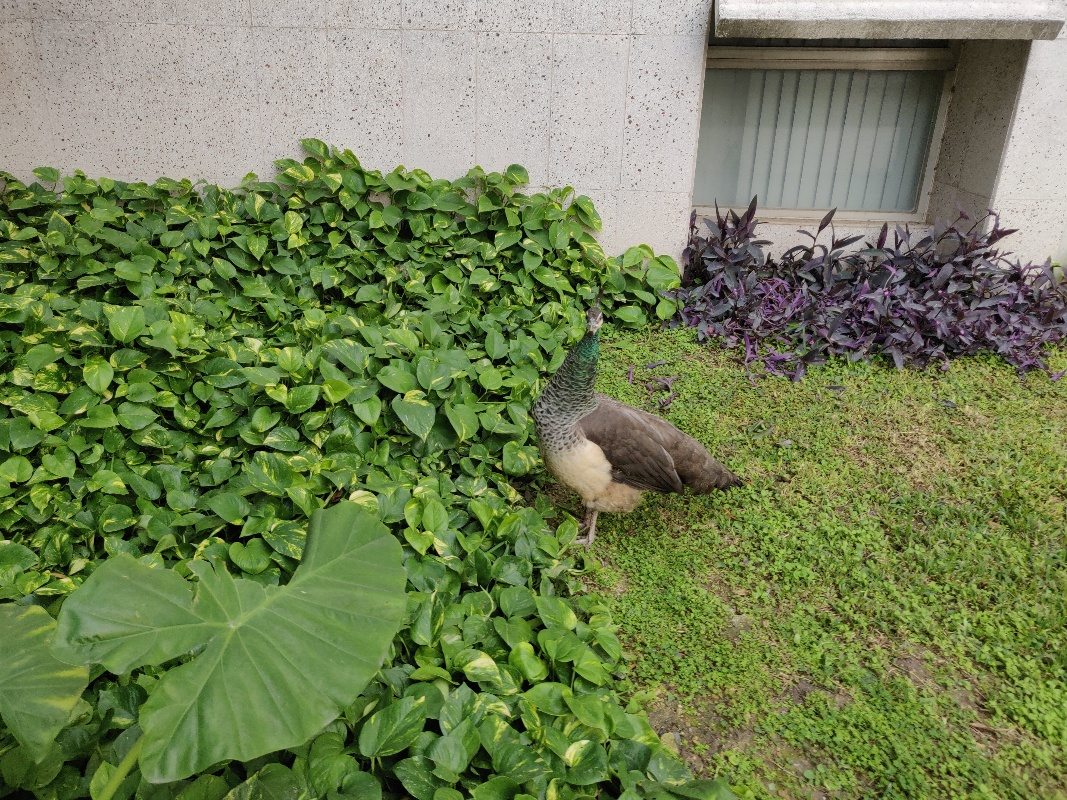pavoreal: (542, 308, 688, 533)
